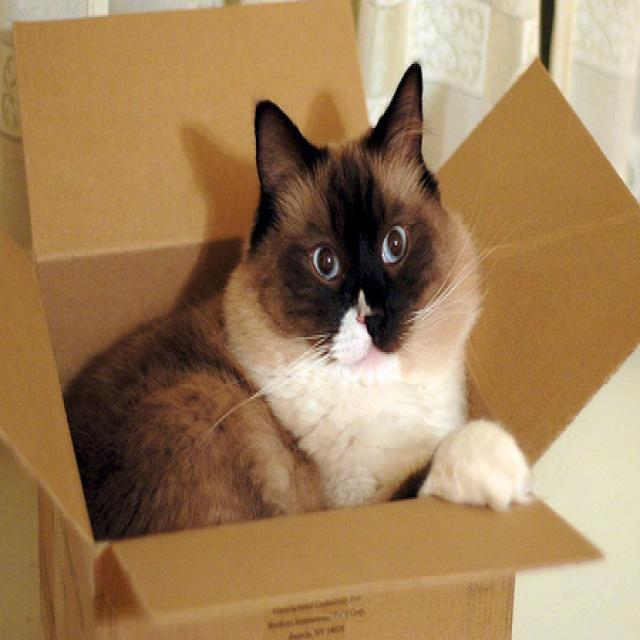Ragdoll: (58, 60, 535, 542)
